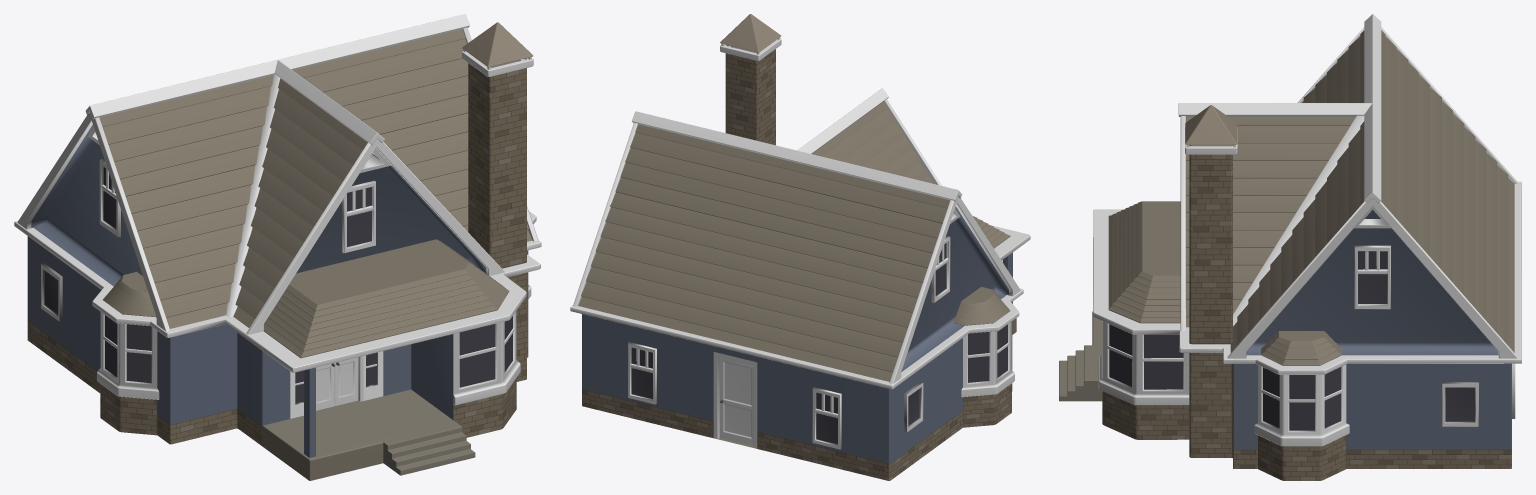
The model's file is 蓝房子.glb.
The picture shows the model from 3 angles, left to right: view 1: azimuth 30°, elevation 25°; view 2: azimuth 150°, elevation 25°; view 3: azimuth 270°, elevation 25°; orthographic projection. The views are drawn at different scales.
Visible parts, largest first — view 1: residential_house.1; view 2: residential_house.1; view 3: residential_house.1.
Boxes of the visible parts, bbox=[...] form: residential_house.1: bbox=[14, 14, 541, 480]; residential_house.1: bbox=[570, 14, 1030, 480]; residential_house.1: bbox=[1059, 14, 1521, 480].
Bounding box in the file's own units: 2.51 × 2.02 × 2.46.
Materials: 1 (1 with a texture image).
